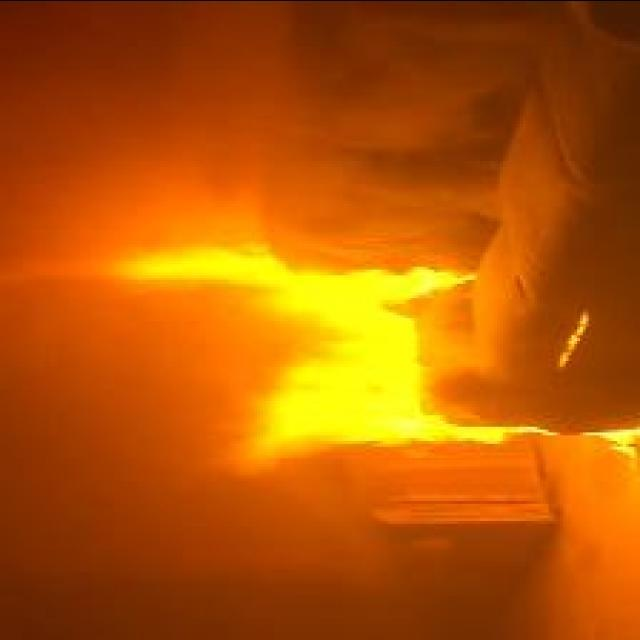Fire: (117, 238, 560, 472), (585, 425, 640, 459)
